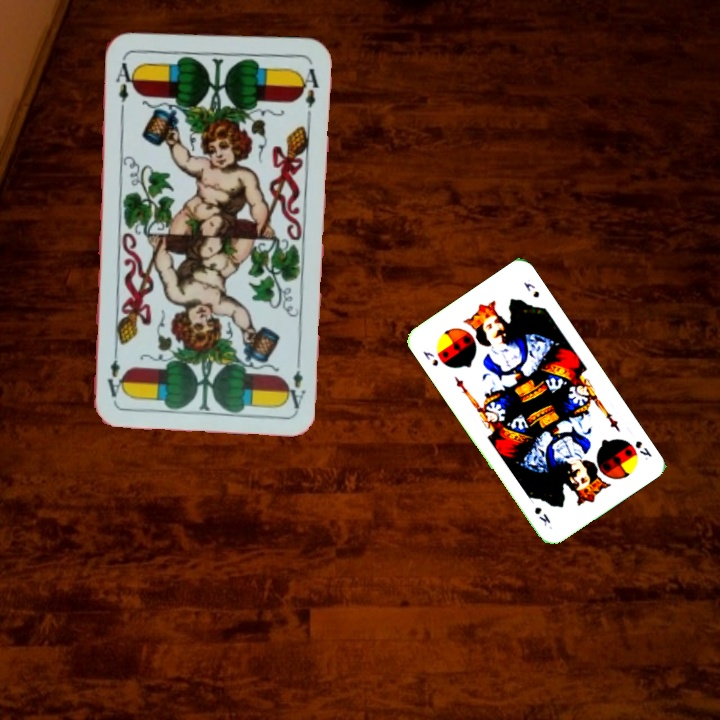EA: (281, 352, 308, 411), (112, 53, 138, 112)
SK: (631, 437, 655, 463), (419, 347, 441, 369)
